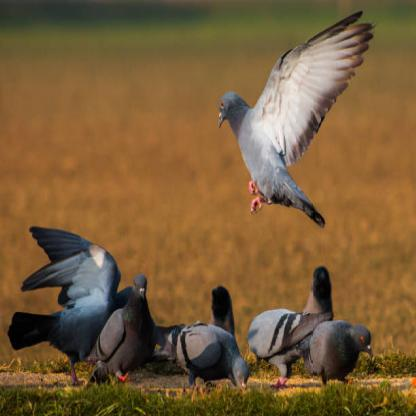Rock Pigeon: (21, 214, 381, 384), (207, 17, 359, 225)
